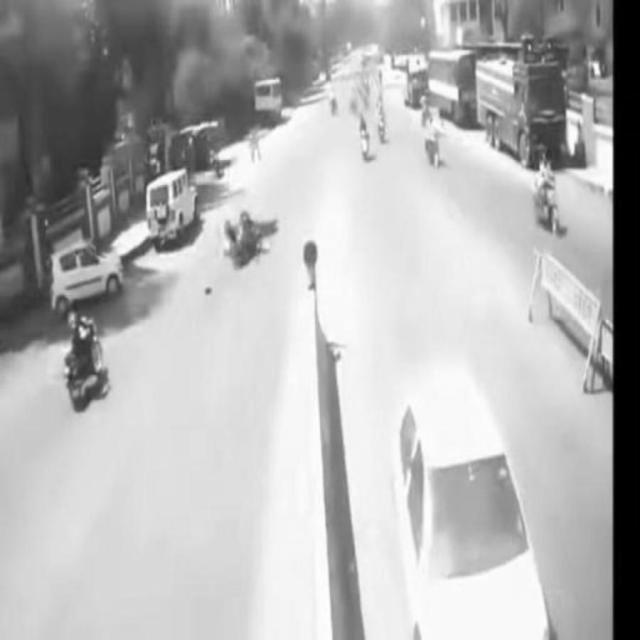vehicle: (400, 396, 554, 639), (477, 57, 570, 167), (46, 248, 129, 303), (62, 310, 106, 412), (149, 172, 199, 236), (534, 157, 564, 225)
